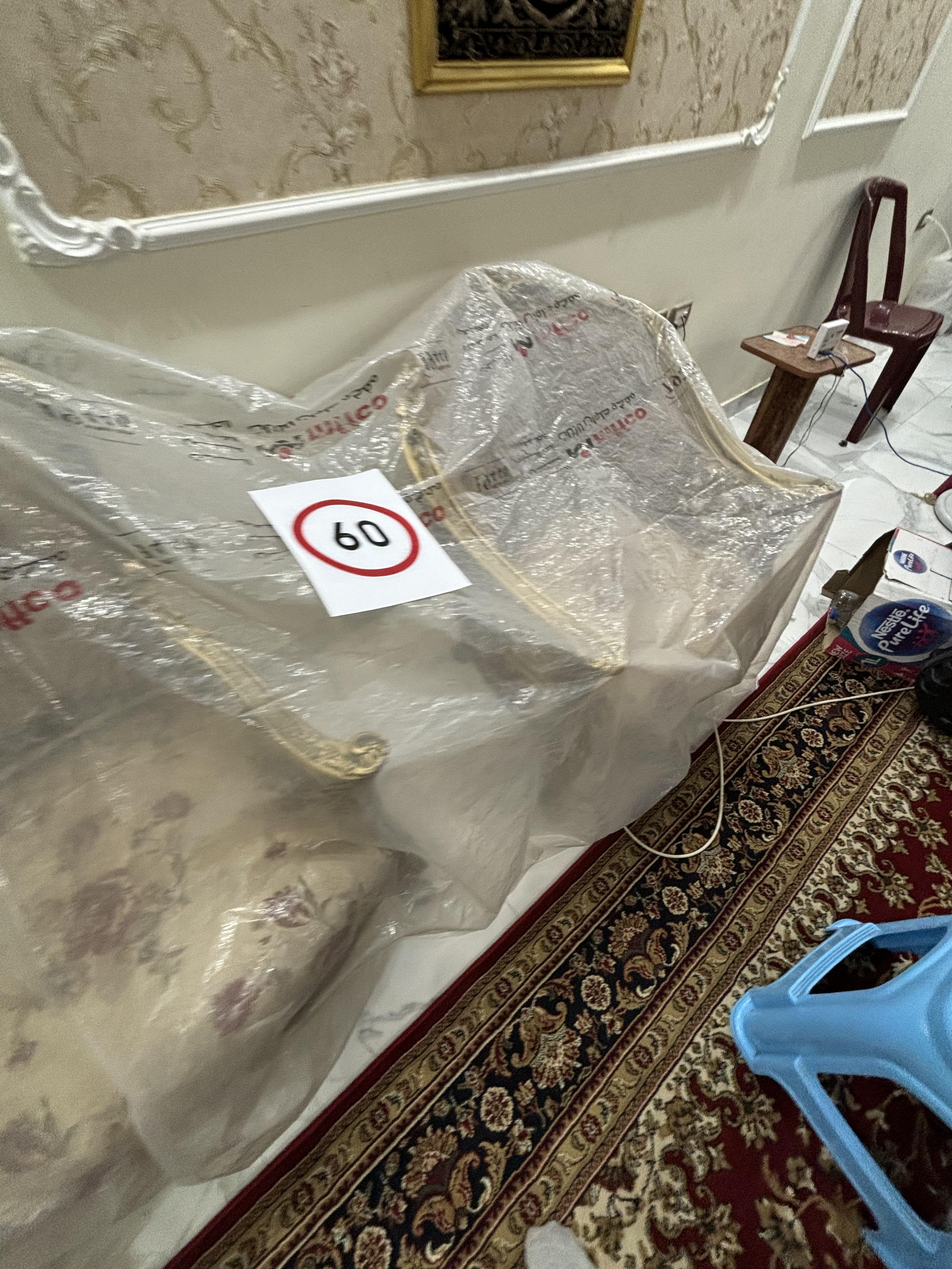60-Speed: (290, 496, 427, 579)
